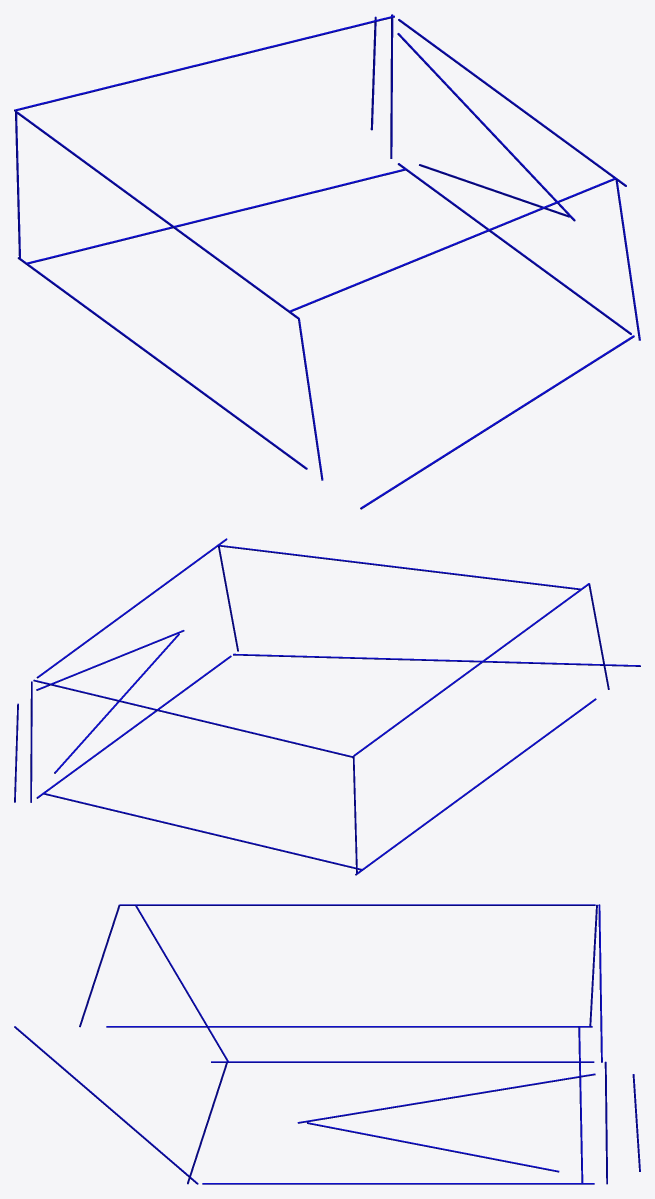
The model's file is corrected_3d_strokes.glb.
3 views of the same model, one above another, from view 1: azimuth 30°, elevation 25°; view 2: azimuth 150°, elevation 25°; view 3: azimuth 270°, elevation 25° (orthographic). The views are drawn at different scales.
Visible parts, largest first — view 1: world; view 2: world; view 3: world.
Boxes of the visible parts, bbox=[...] form: world: bbox=[14, 14, 640, 509]; world: bbox=[14, 538, 640, 875]; world: bbox=[14, 904, 640, 1184].
Bounding box in the file's own units: 7.76 × 2.83 × 13.02.
